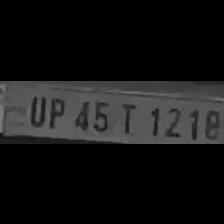1: (142, 102, 160, 136), (183, 104, 200, 138)
2: (160, 102, 184, 138)
4: (68, 96, 92, 130)
5: (89, 97, 112, 132)
P: (44, 94, 66, 128)
T: (116, 98, 140, 134)
U: (24, 93, 46, 127)
